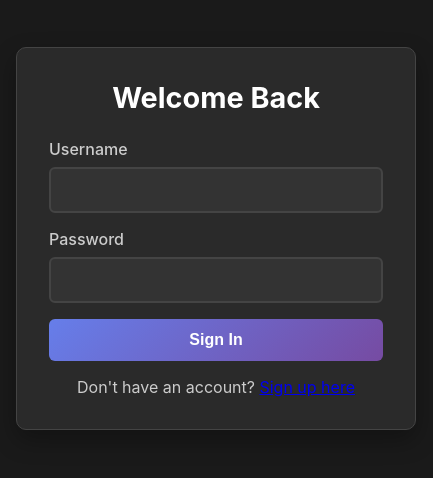
it: Login Component › displays error message for invalid credentials
In the field labelled "Username": x=216, y=190 [49,166,383,212], type "testuser"
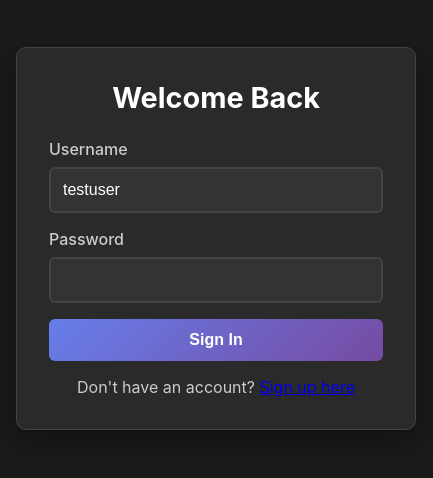
In the password field labelled "Password": x=216, y=280 [49,256,383,302], type "wrongpass"
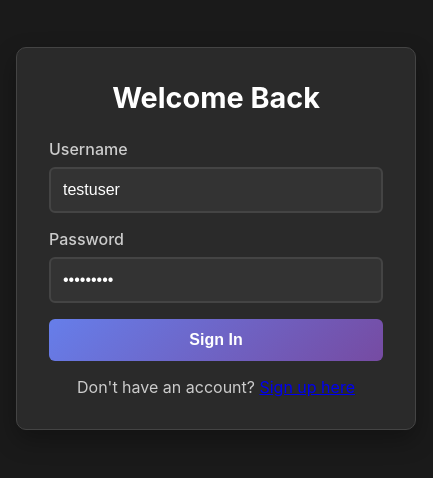
Click the button "Sign In": x=216, y=340 [49,318,383,360]
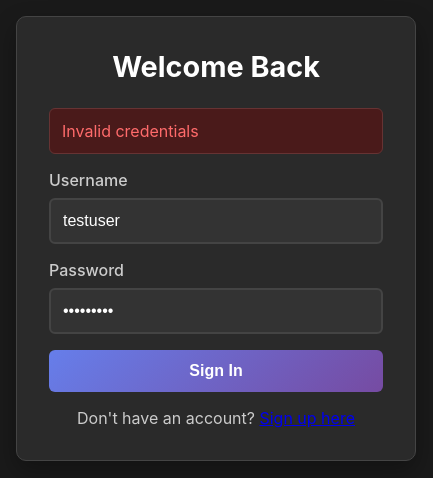
Check: the text "Invalid credentials" is shown, box [49,108,383,154]
